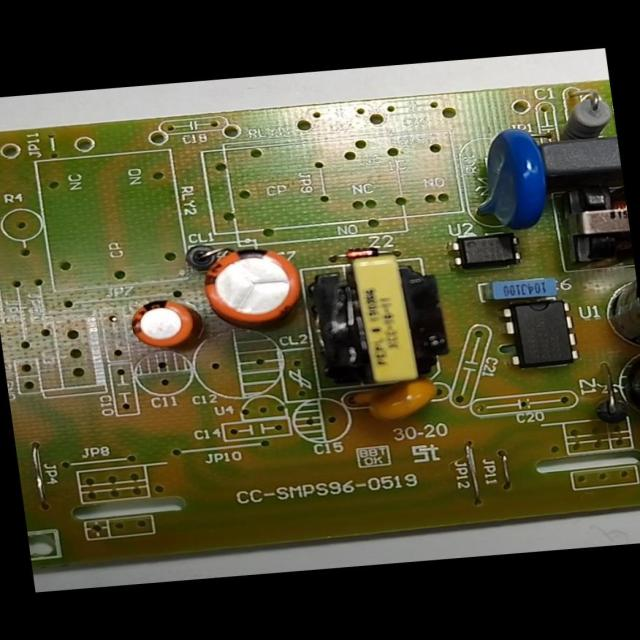Cap1: (197, 242, 311, 334)
Cap2: (118, 292, 212, 357)
Cap3: (596, 259, 639, 349)
Cap4: (606, 343, 640, 432)
MOSFET: (496, 297, 581, 372)
Mov: (457, 123, 556, 233)
Resistor: (545, 86, 616, 143)
Transformer: (305, 246, 457, 396), (562, 180, 633, 265)
